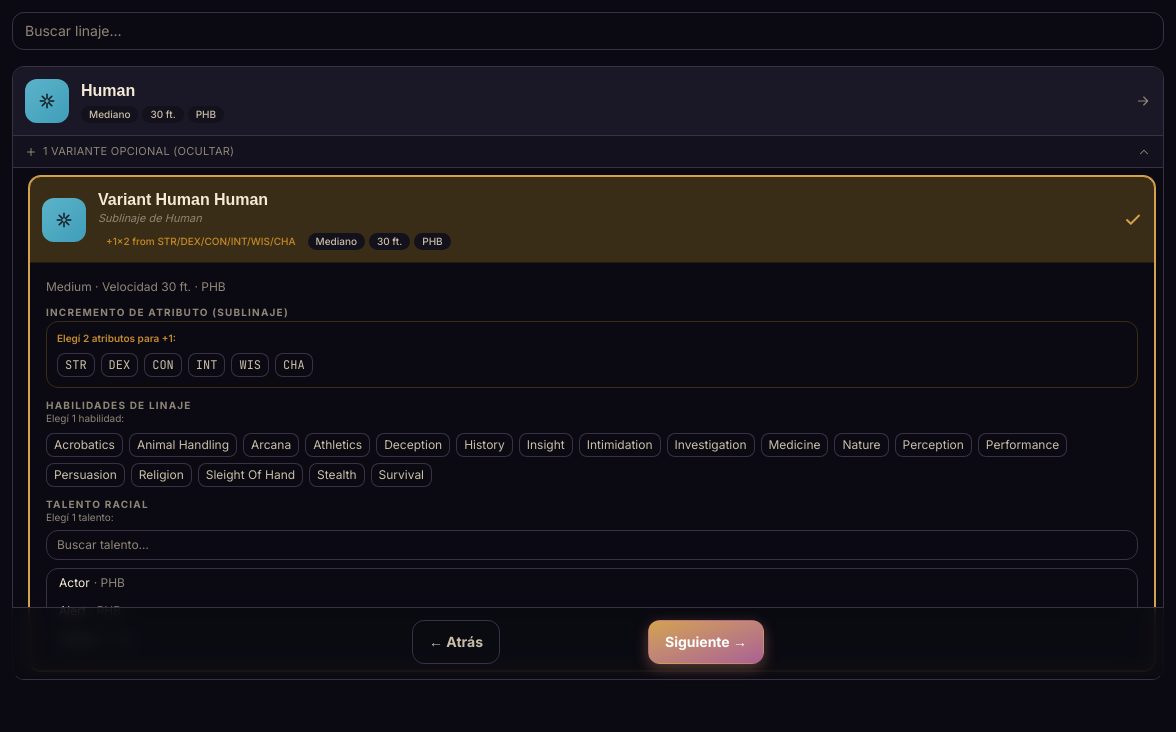
it: W-C4: RaceFeatPicker filter narrows the visible feats › hides non-matching feats when user types in the search input
Find the feat search input (placeholder "Buscar talento…")
Type "act" into the search field with placeholder "Buscar talento…" at (592, 545), box x1=46 y1=530 x2=1138 y2=560
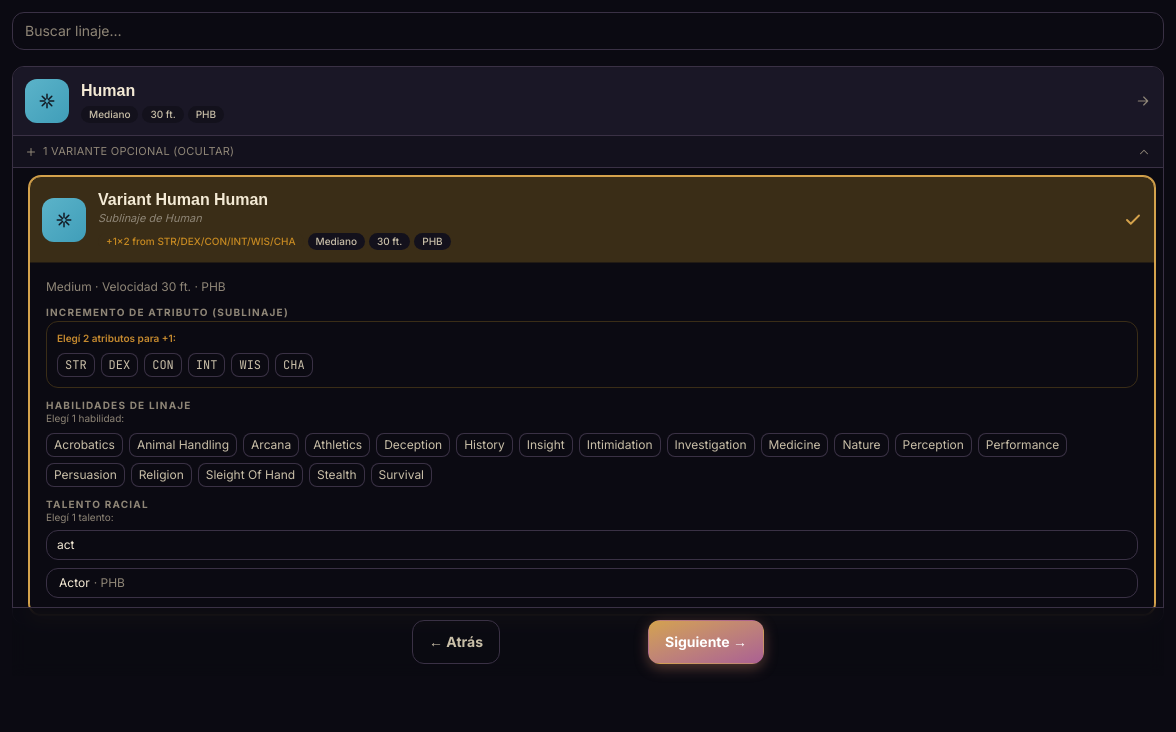
Expected: the button "Actor· PHB" is shown, x1=47 y1=569 x2=1137 y2=597
Expected: the button "Alert" is gone
